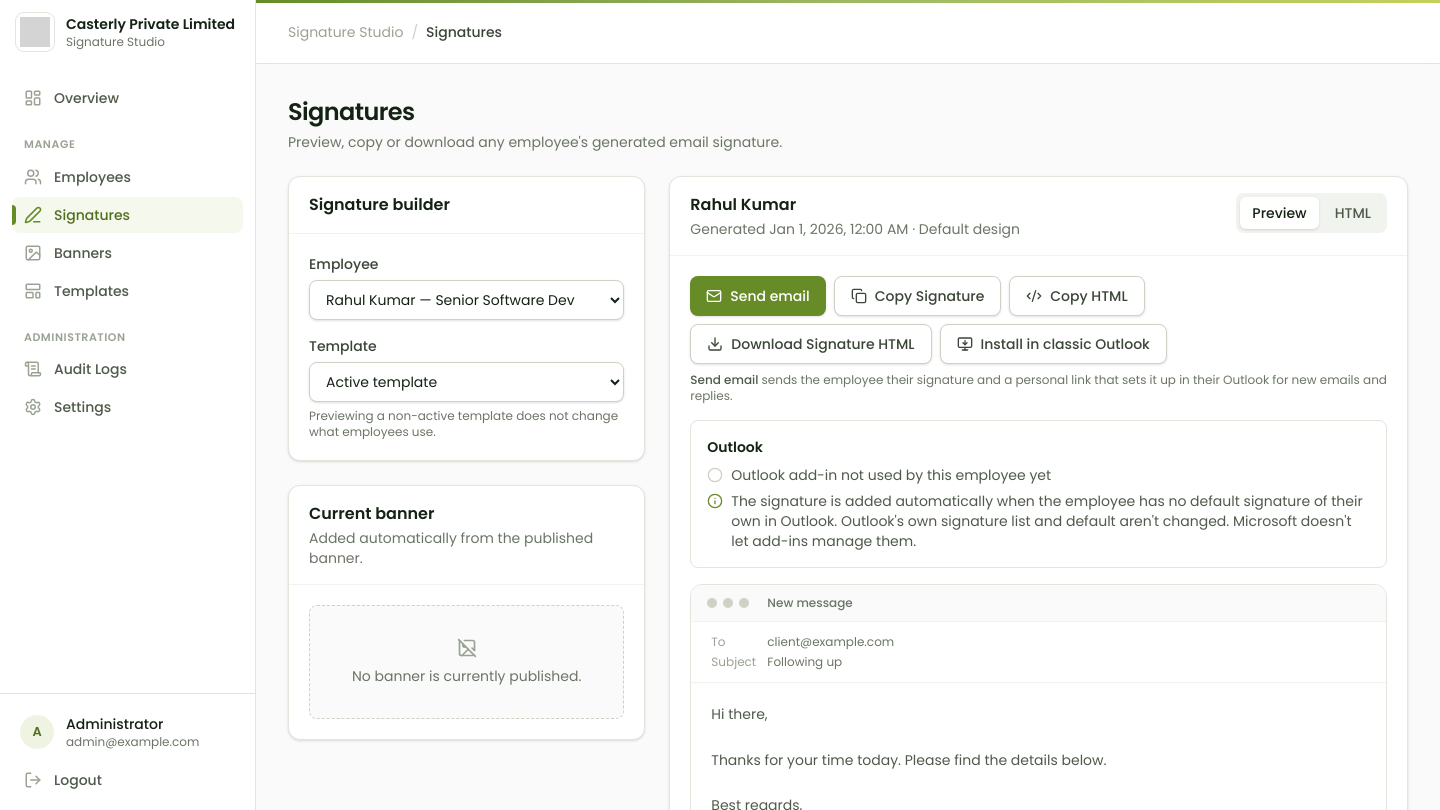
Test case: Send email › asks for confirmation, then emails the employee
The image size is (1440, 810).
Click the button "Send email". click: (758, 296)
box: [690,276,826,316]
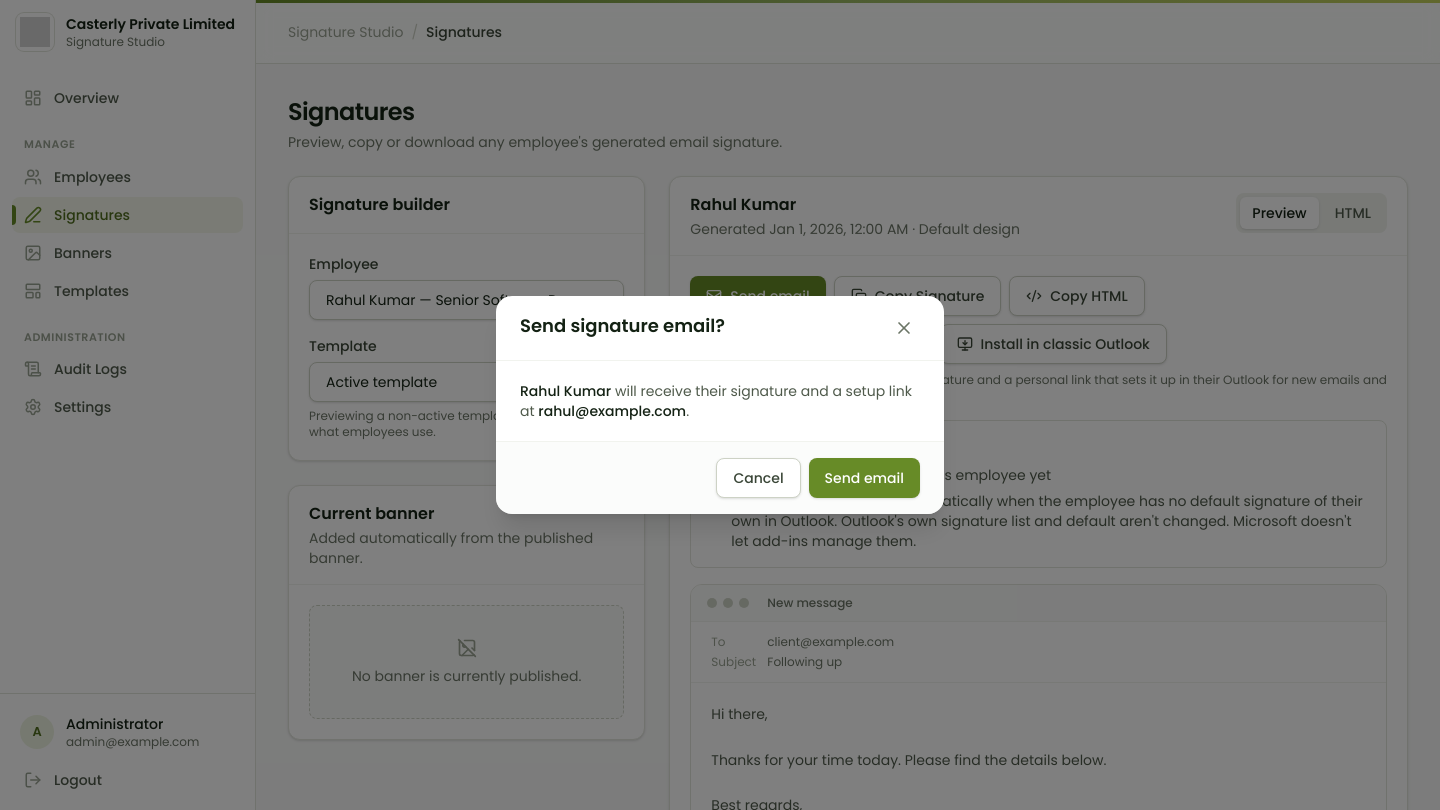
Expected: the text "rahul@example.com" is shown, [538,401,686,421]
Click the button "Send email". click: (864, 478)
box: [809,458,920,498]
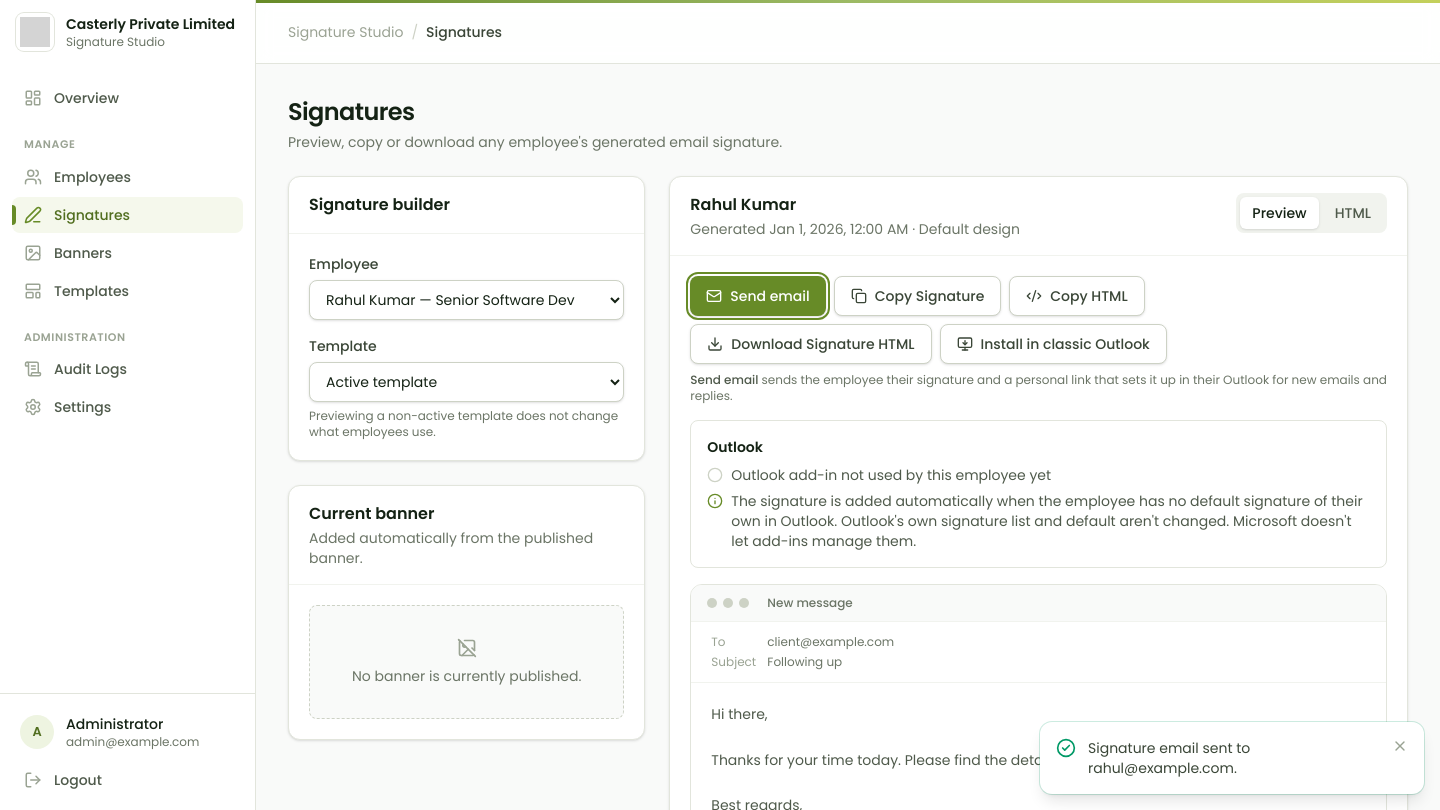
Expected: the text "Signature email sent to rahul@example.com." is shown, [1088,738,1250,778]
